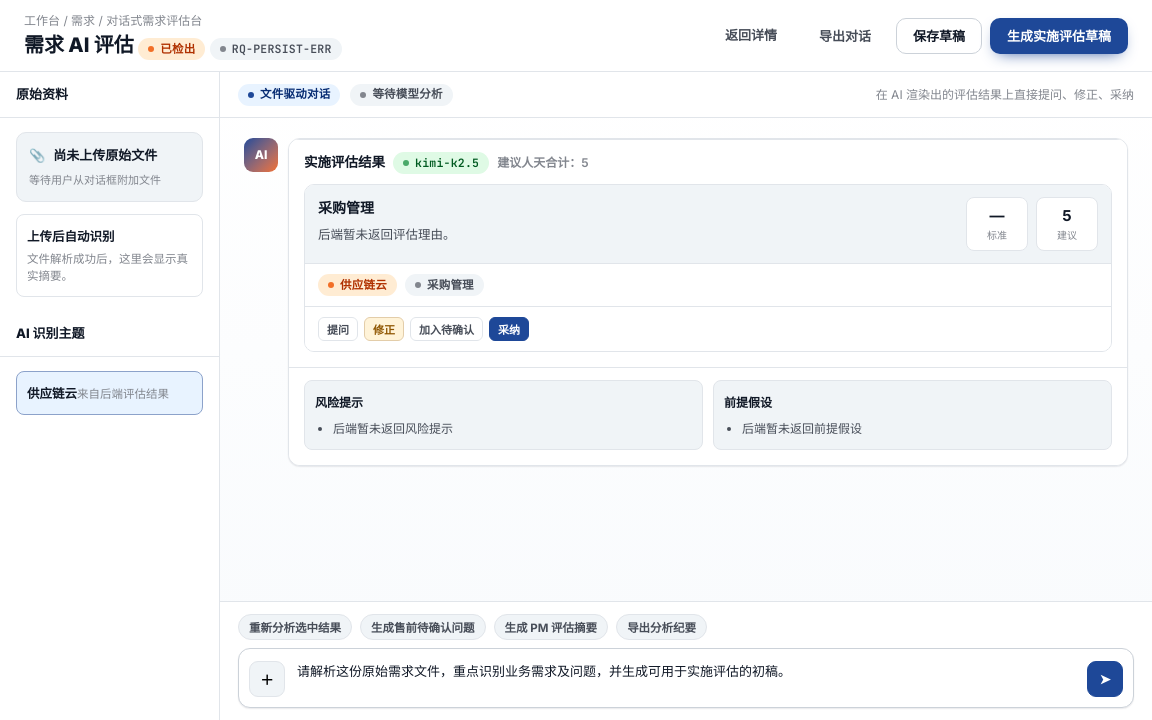
RequirementAiWorkbench › persist draft failure surfaces page-level error banner
Click the button "加入待确认".
click(446, 329)  # box [410,317,483,341]
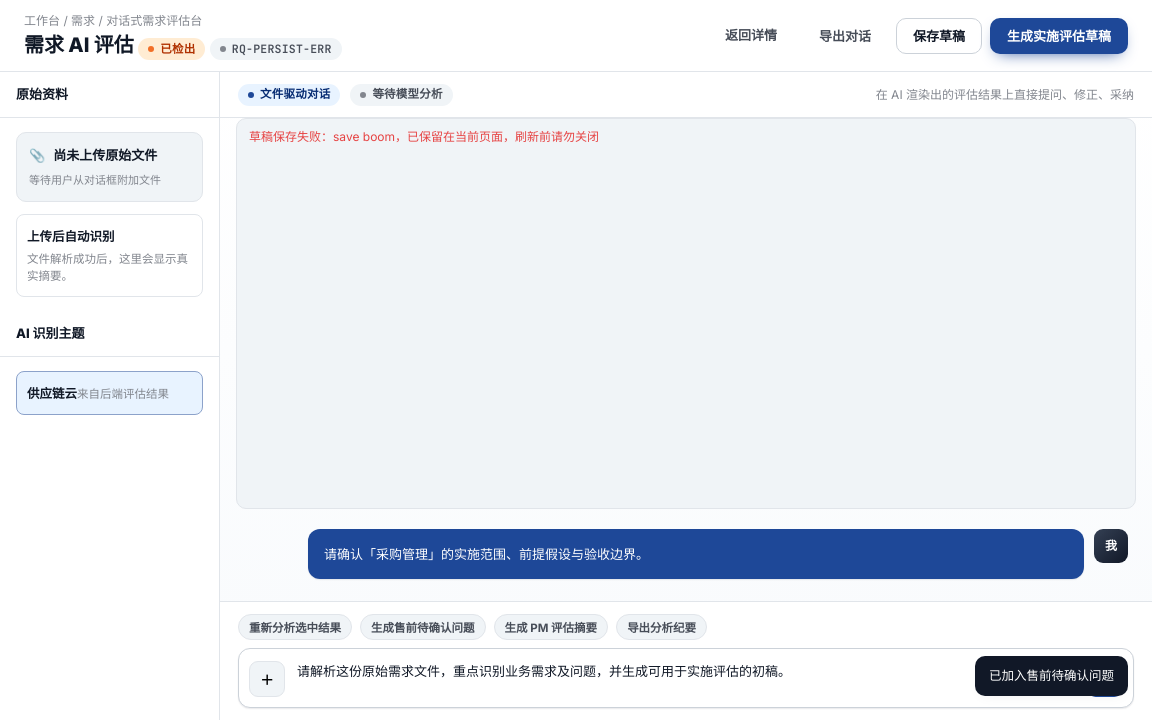
Expected: the text "草稿保存失败：save boom，已保留在当前页面，刷新前请勿关闭" is shown, [236,118,1136,509]
